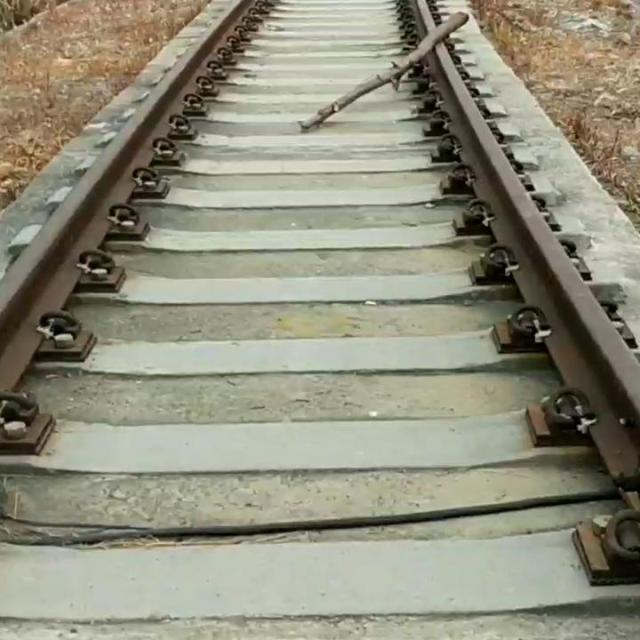danger: (283, 5, 481, 144)
rail: (392, 0, 640, 640)
